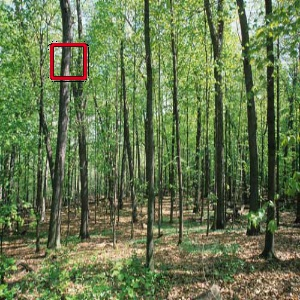square: (46, 40, 91, 83)
